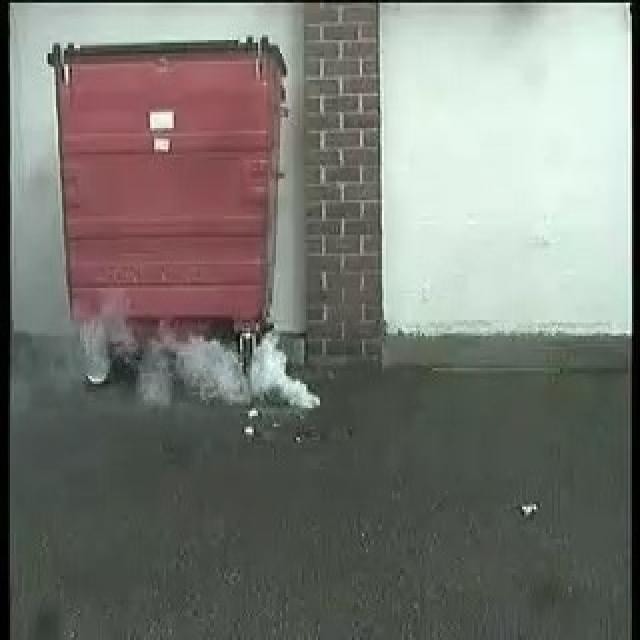smoke: (67, 307, 317, 408)
